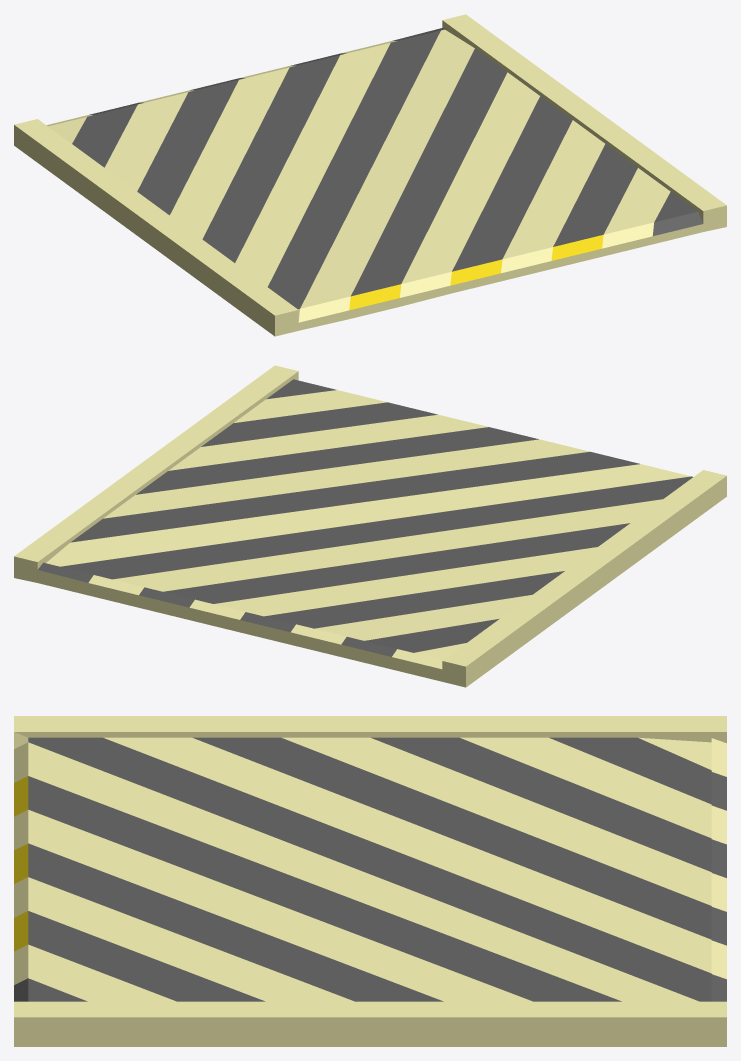
Rendered from Flr-Pedest.fbx.
3 renders of one model, top to bottom at view 1: azimuth 30°, elevation 25°; view 2: azimuth 150°, elevation 25°; view 3: azimuth 270°, elevation 25°, orthographic. The views are drawn at different scales.
Visible parts, largest first — view 1: Pedestrian_Lane; view 2: Pedestrian_Lane; view 3: Pedestrian_Lane.
Part boxes in pixels (left/top/right/bottom): Pedestrian_Lane: left=14, top=14, right=726, bottom=336; Pedestrian_Lane: left=14, top=365, right=726, bottom=687; Pedestrian_Lane: left=14, top=716, right=726, bottom=1046.
Bounding box in the file's own units: 1.33 × 0.0606 × 1.33.
